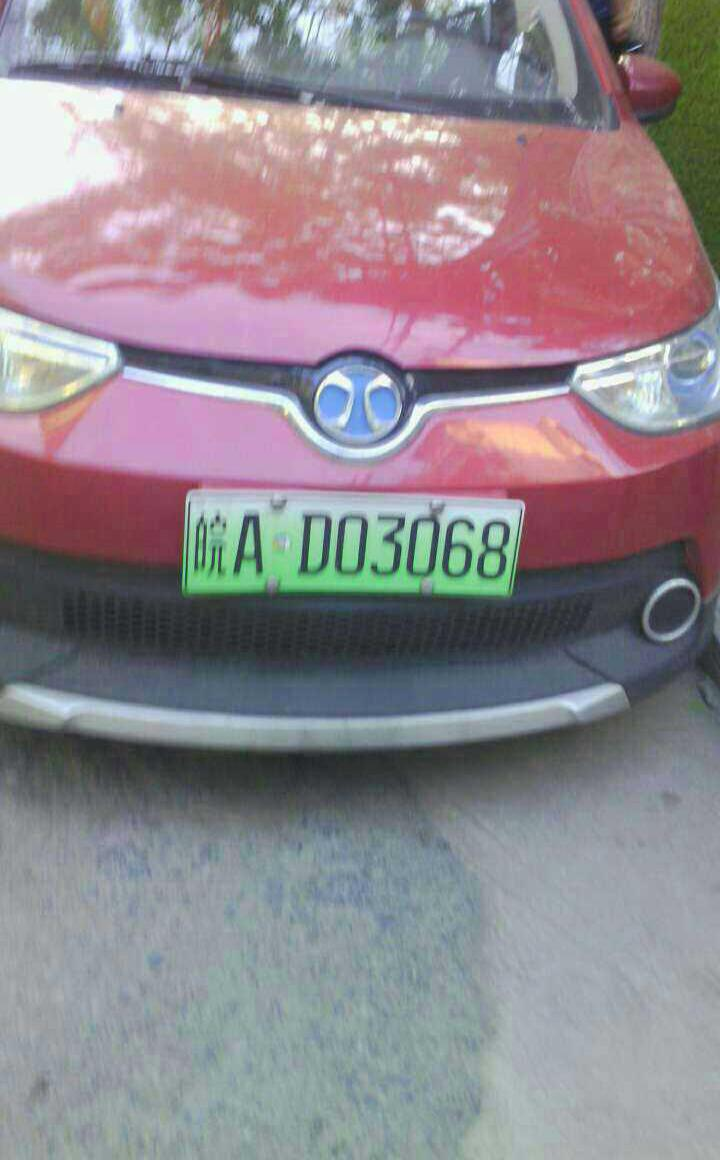car: (185, 491, 510, 601)
